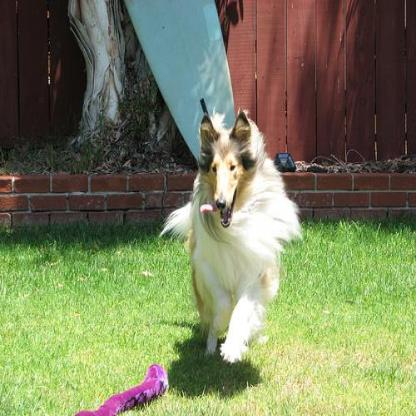collie: (157, 93, 302, 363)
